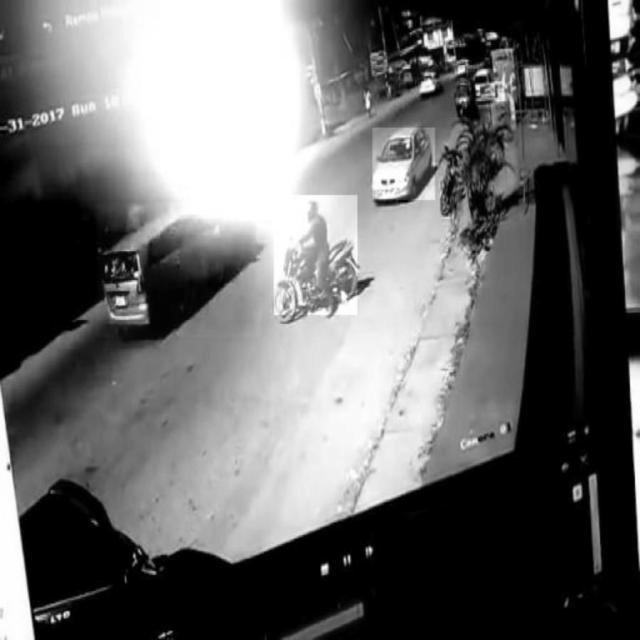vehicle: (96, 203, 261, 337), (274, 196, 357, 316), (373, 129, 435, 201)
